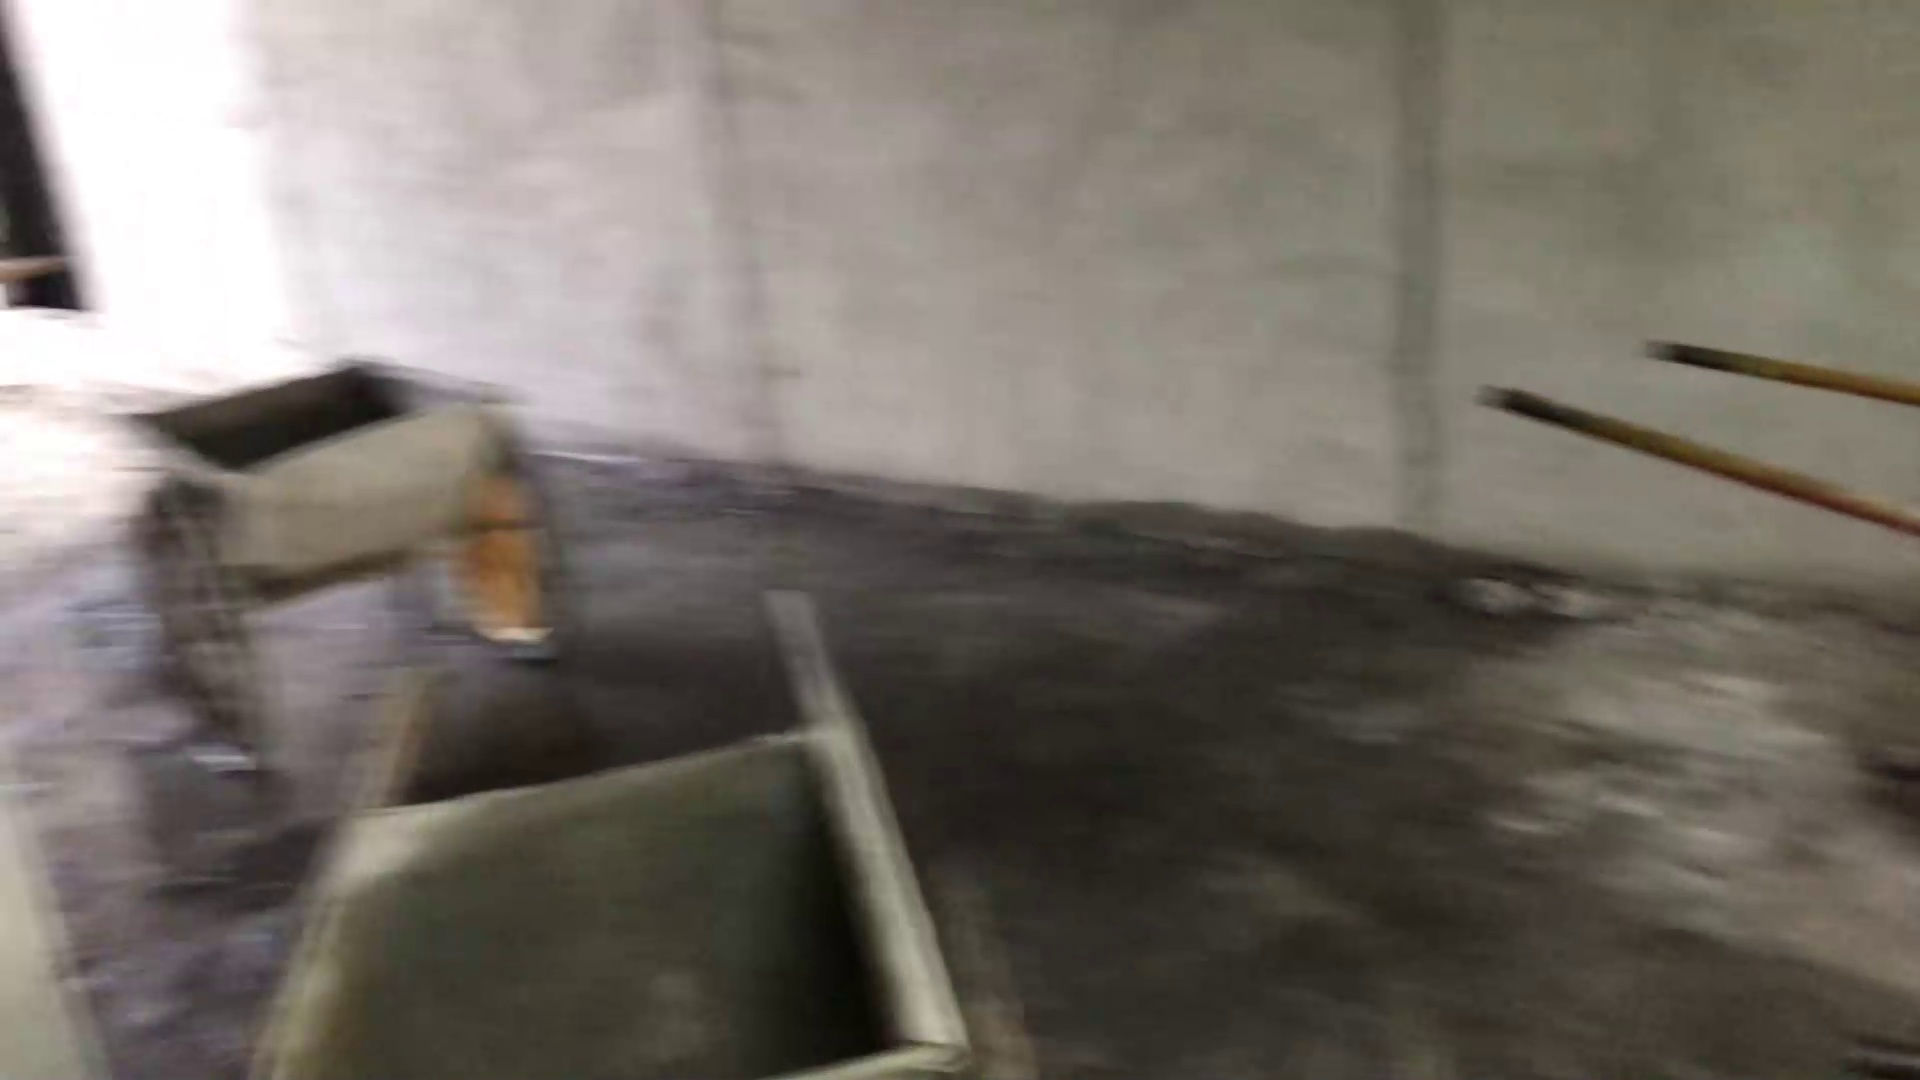handcart: (266, 632, 1175, 1080), (65, 361, 669, 720)
